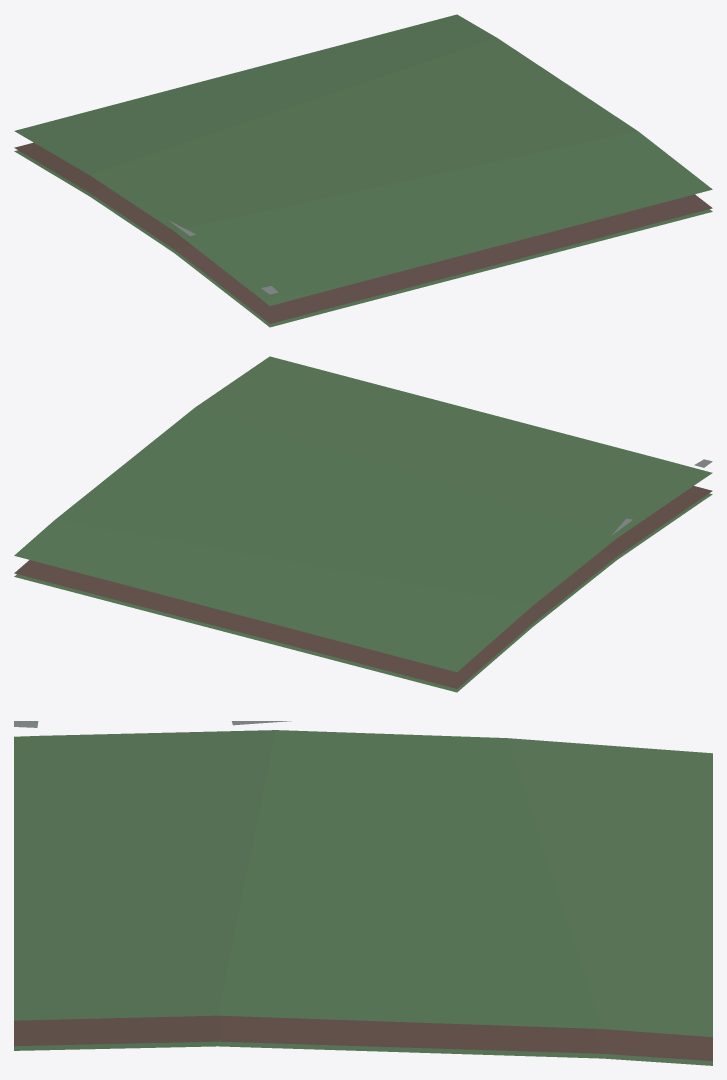
File: cell_226.obj
The picture shows the model from 3 angles, top to bottom: view 1: azimuth 30°, elevation 25°; view 2: azimuth 150°, elevation 25°; view 3: azimuth 270°, elevation 25°; orthographic projection. The views are drawn at different scales.
Bounding box in the file's own units: 1 × 0.0959 × 1.
